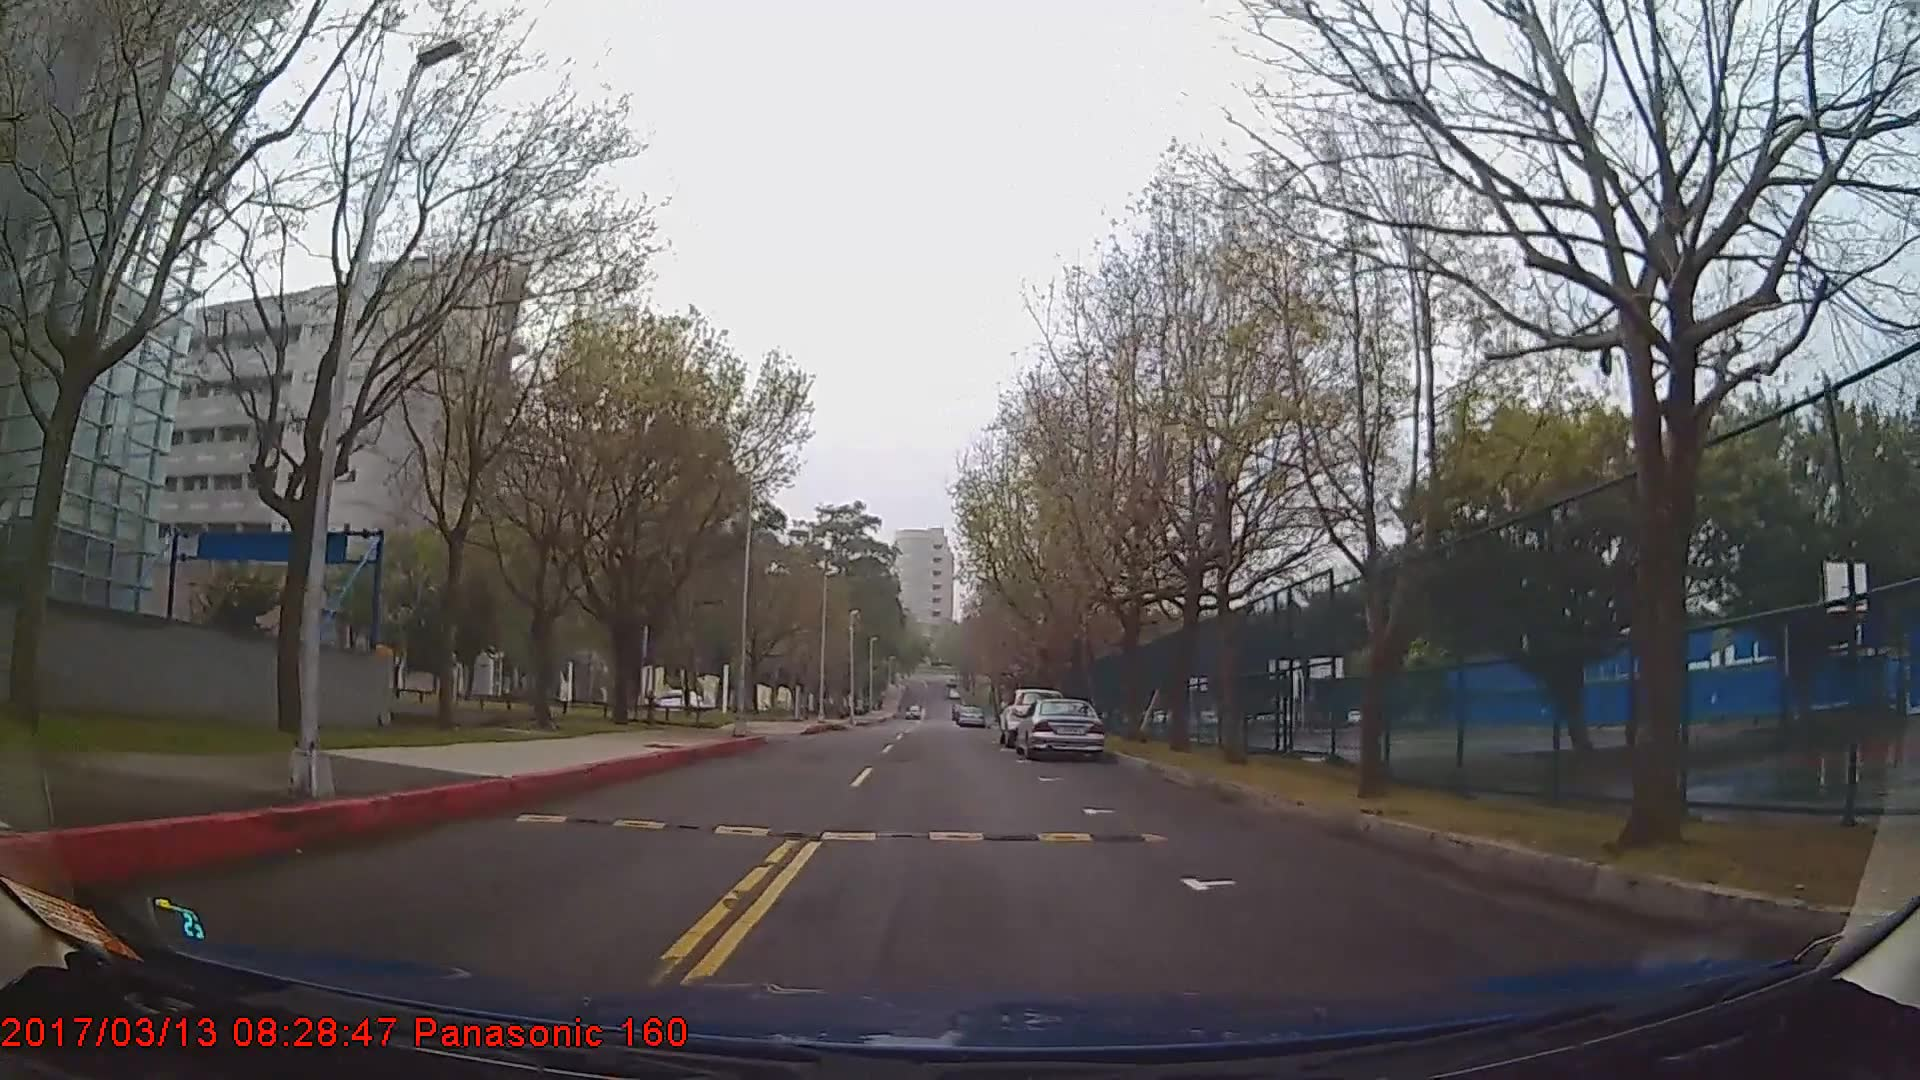vehicle: (1015, 694, 1108, 757), (1001, 684, 1067, 746), (953, 703, 988, 725)
